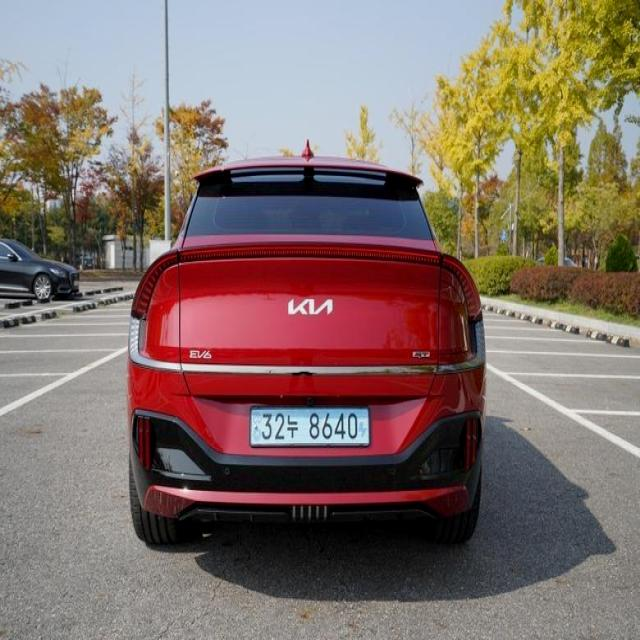EV_plate: (251, 400, 373, 452)
car: (112, 136, 496, 566)
